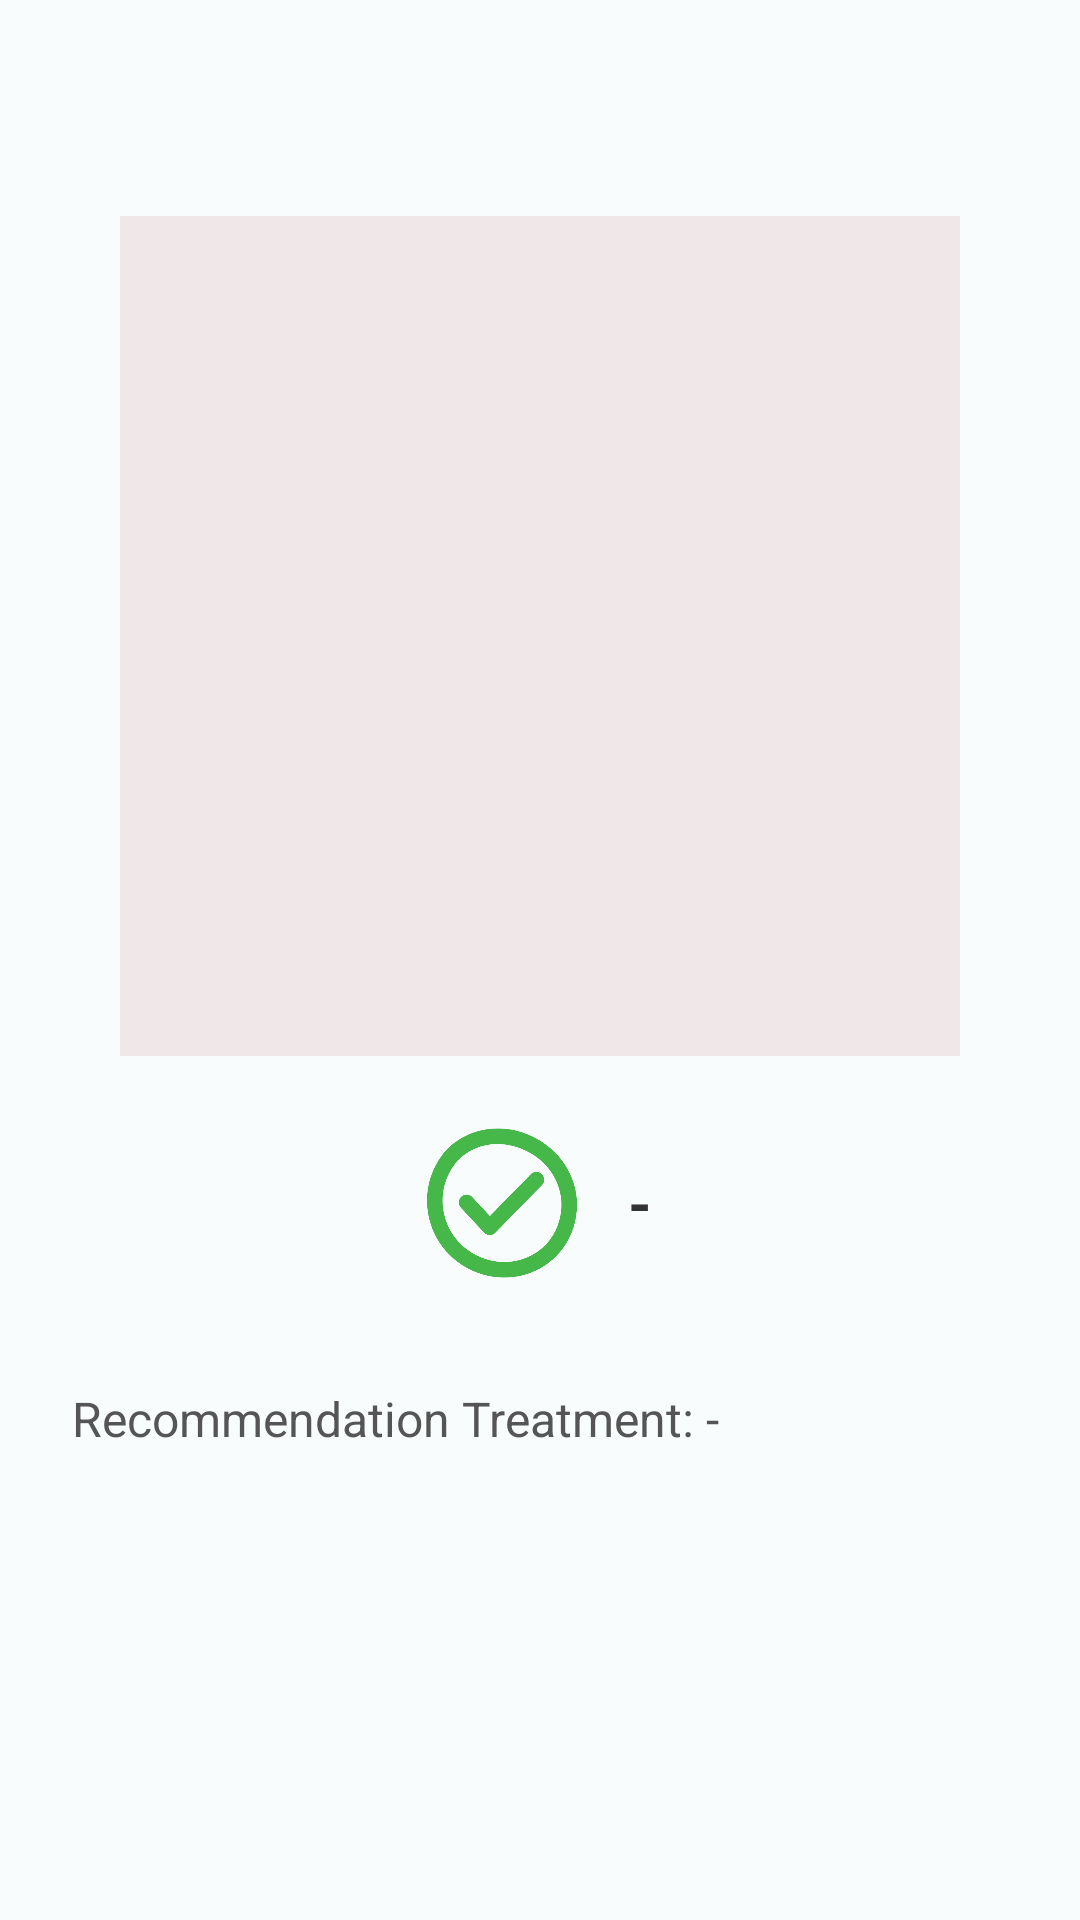

Icons on this 1080*1920 Android screen, each with its box as (x1, y1, x2, y2):
right: (427, 1128, 577, 1278)
